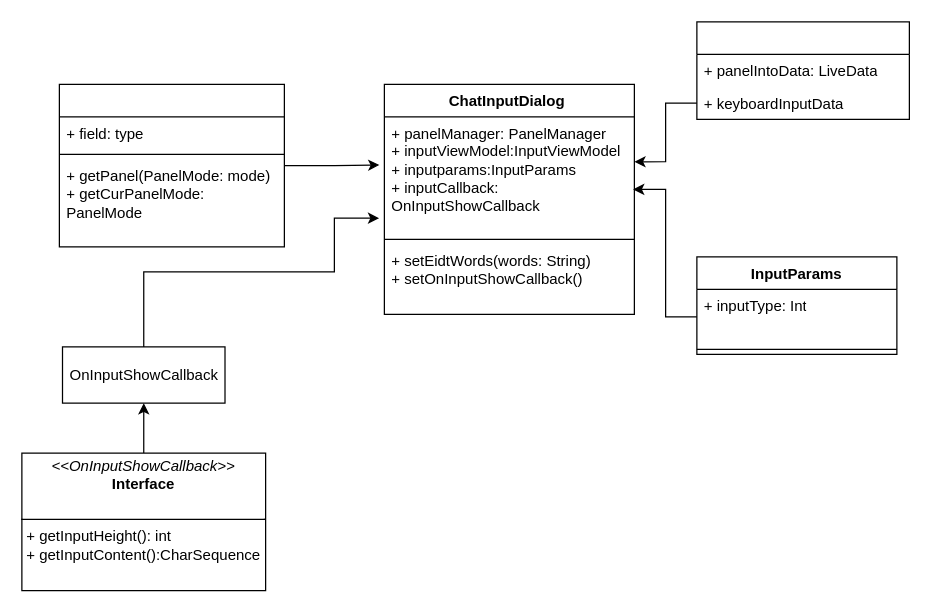
Image size: 931x613. Some labels were removed from this diagram. Each missing label, with the box of its shape:
InputViewModel: (696, 21, 909, 119)
PanelManager: (58, 83, 284, 247)
